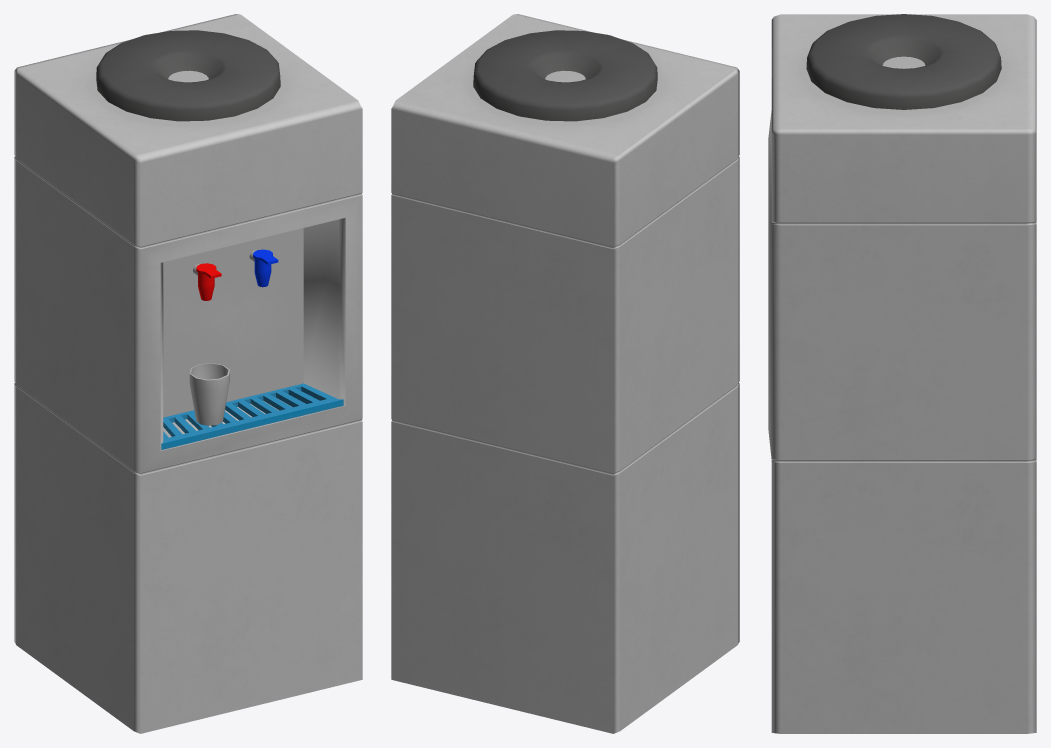
The model's file is Water Dispenser.fbx.
The picture shows the model from 3 angles, left to right: view 1: azimuth 30°, elevation 25°; view 2: azimuth 150°, elevation 25°; view 3: azimuth 270°, elevation 25°; orthographic projection. The views are drawn at different scales.
Visible parts, largest first — view 1: Water_Dispenser1; view 2: Water_Dispenser1; view 3: Water_Dispenser1.
Part boxes in pixels (left/top/right/bottom): Water_Dispenser1: left=14, top=14, right=362, bottom=733; Water_Dispenser1: left=391, top=14, right=739, bottom=733; Water_Dispenser1: left=768, top=14, right=1036, bottom=733.
Bounding box in the file's own units: 38 × 95.13 × 37.08.
